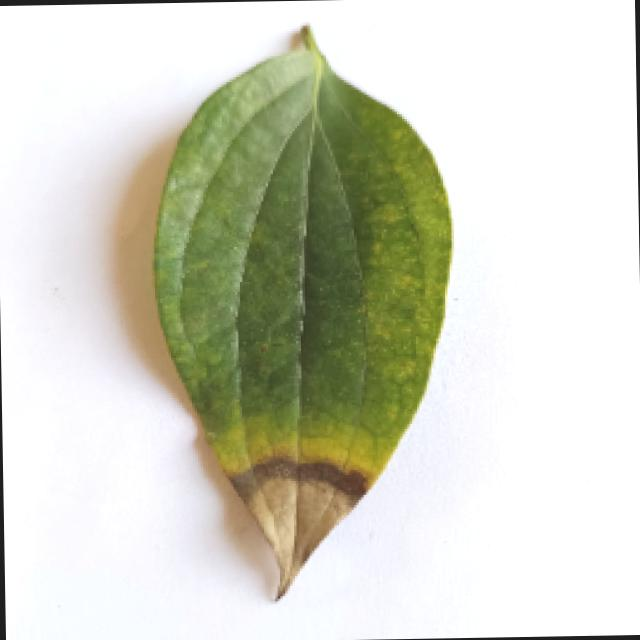footrot: (125, 30, 470, 601)
